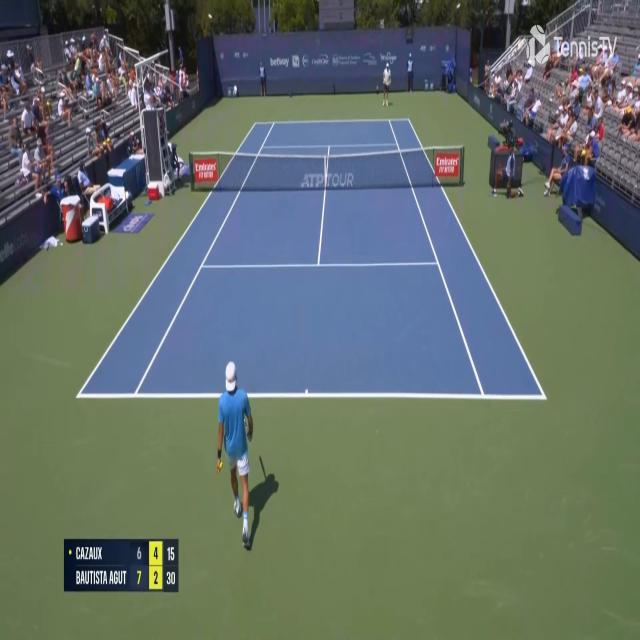tennis-player: (214, 358, 279, 552), (376, 63, 392, 108)
